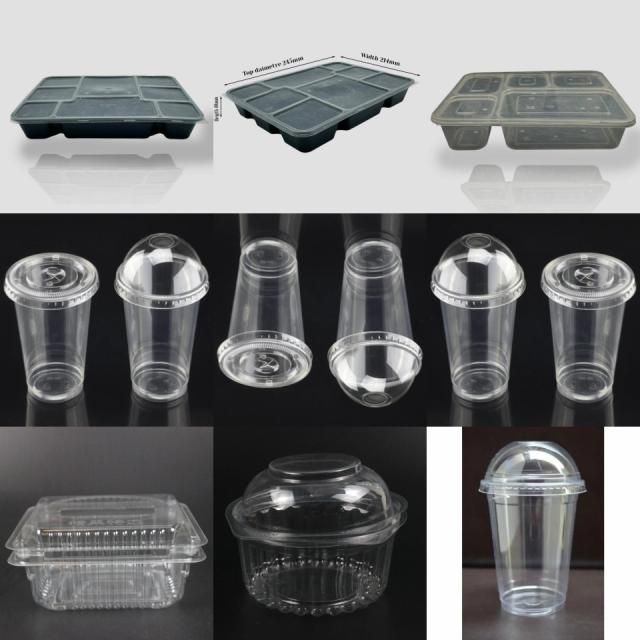Single-Use-Plastic: (226, 454, 408, 616), (6, 494, 208, 610), (479, 441, 586, 616), (225, 61, 415, 152), (431, 72, 635, 150), (115, 232, 209, 401), (328, 239, 422, 407), (431, 234, 525, 402), (4, 252, 99, 402), (541, 252, 636, 402), (218, 239, 312, 388), (11, 75, 204, 139)
